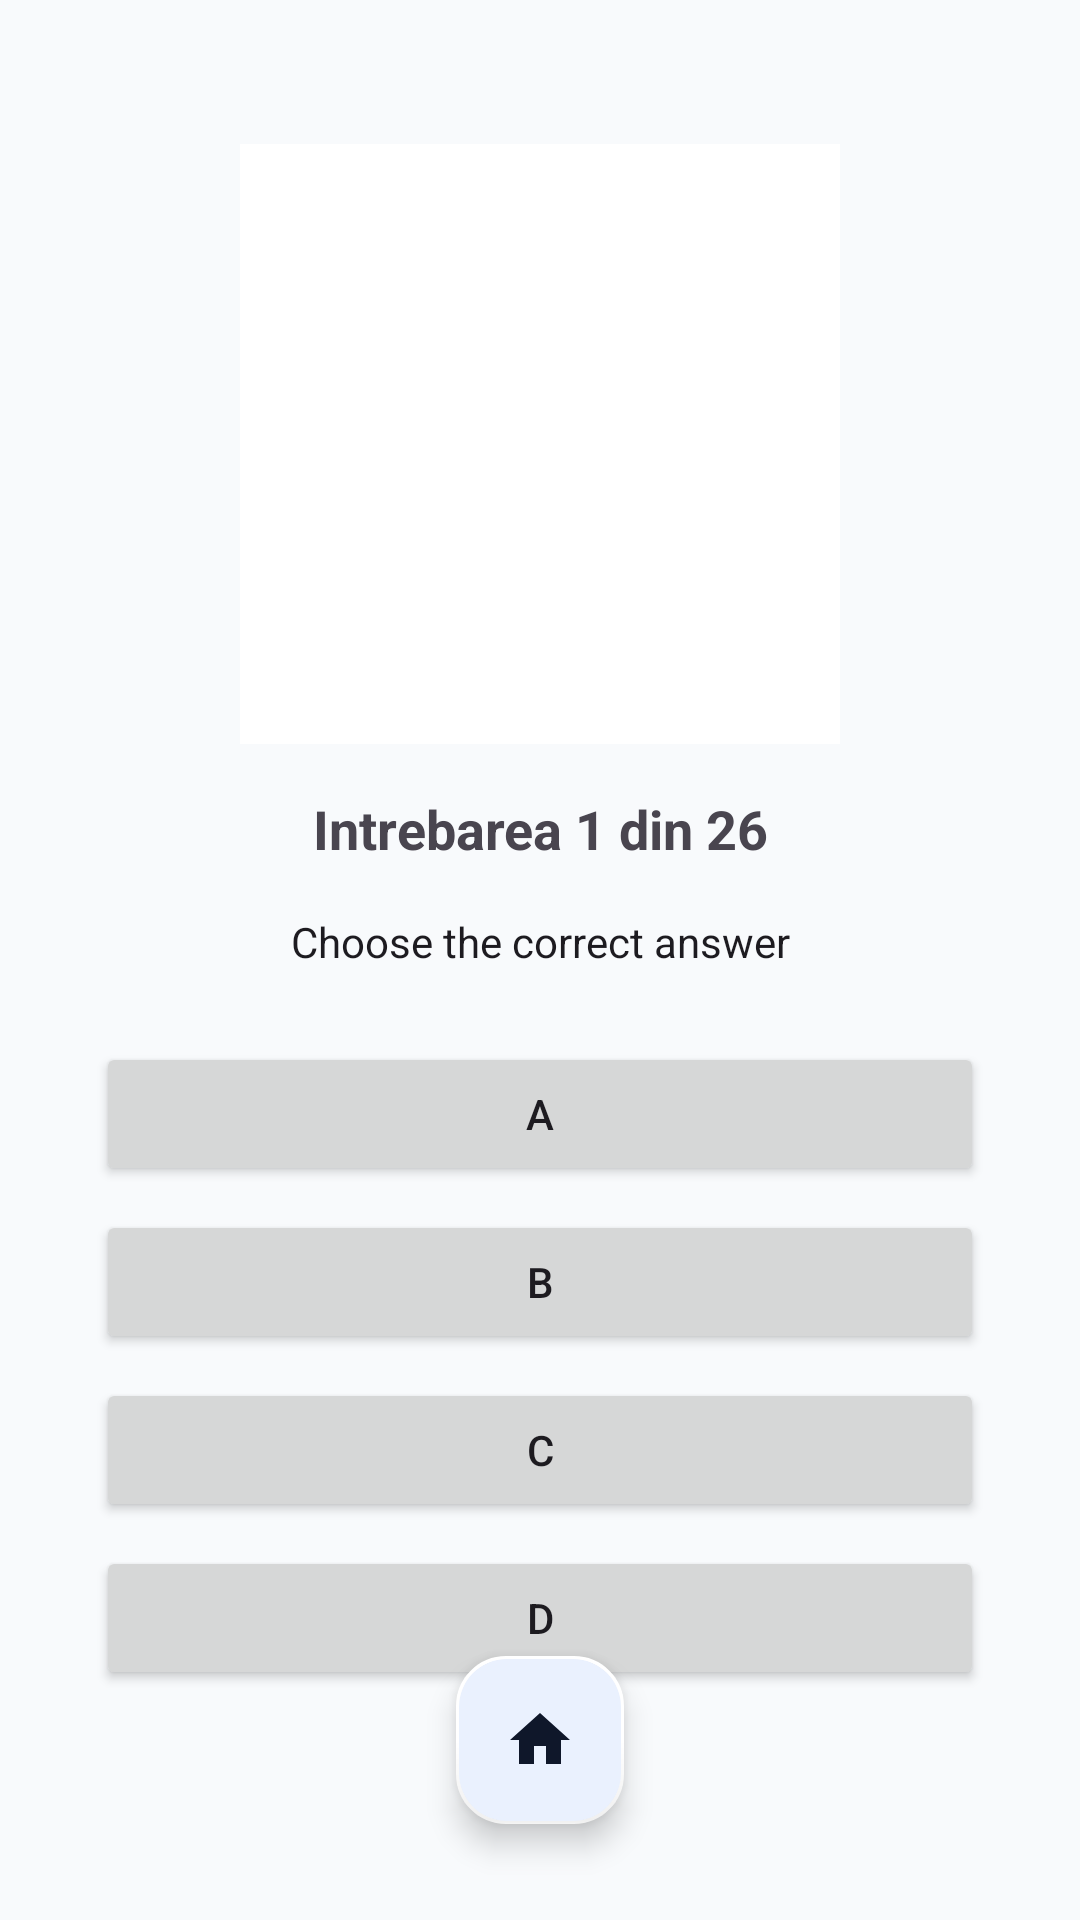

Icons on this 1080x1920 Android screen, each with its box as [x1,y1,x2,y2]:
Home: [456,1656,624,1824]
